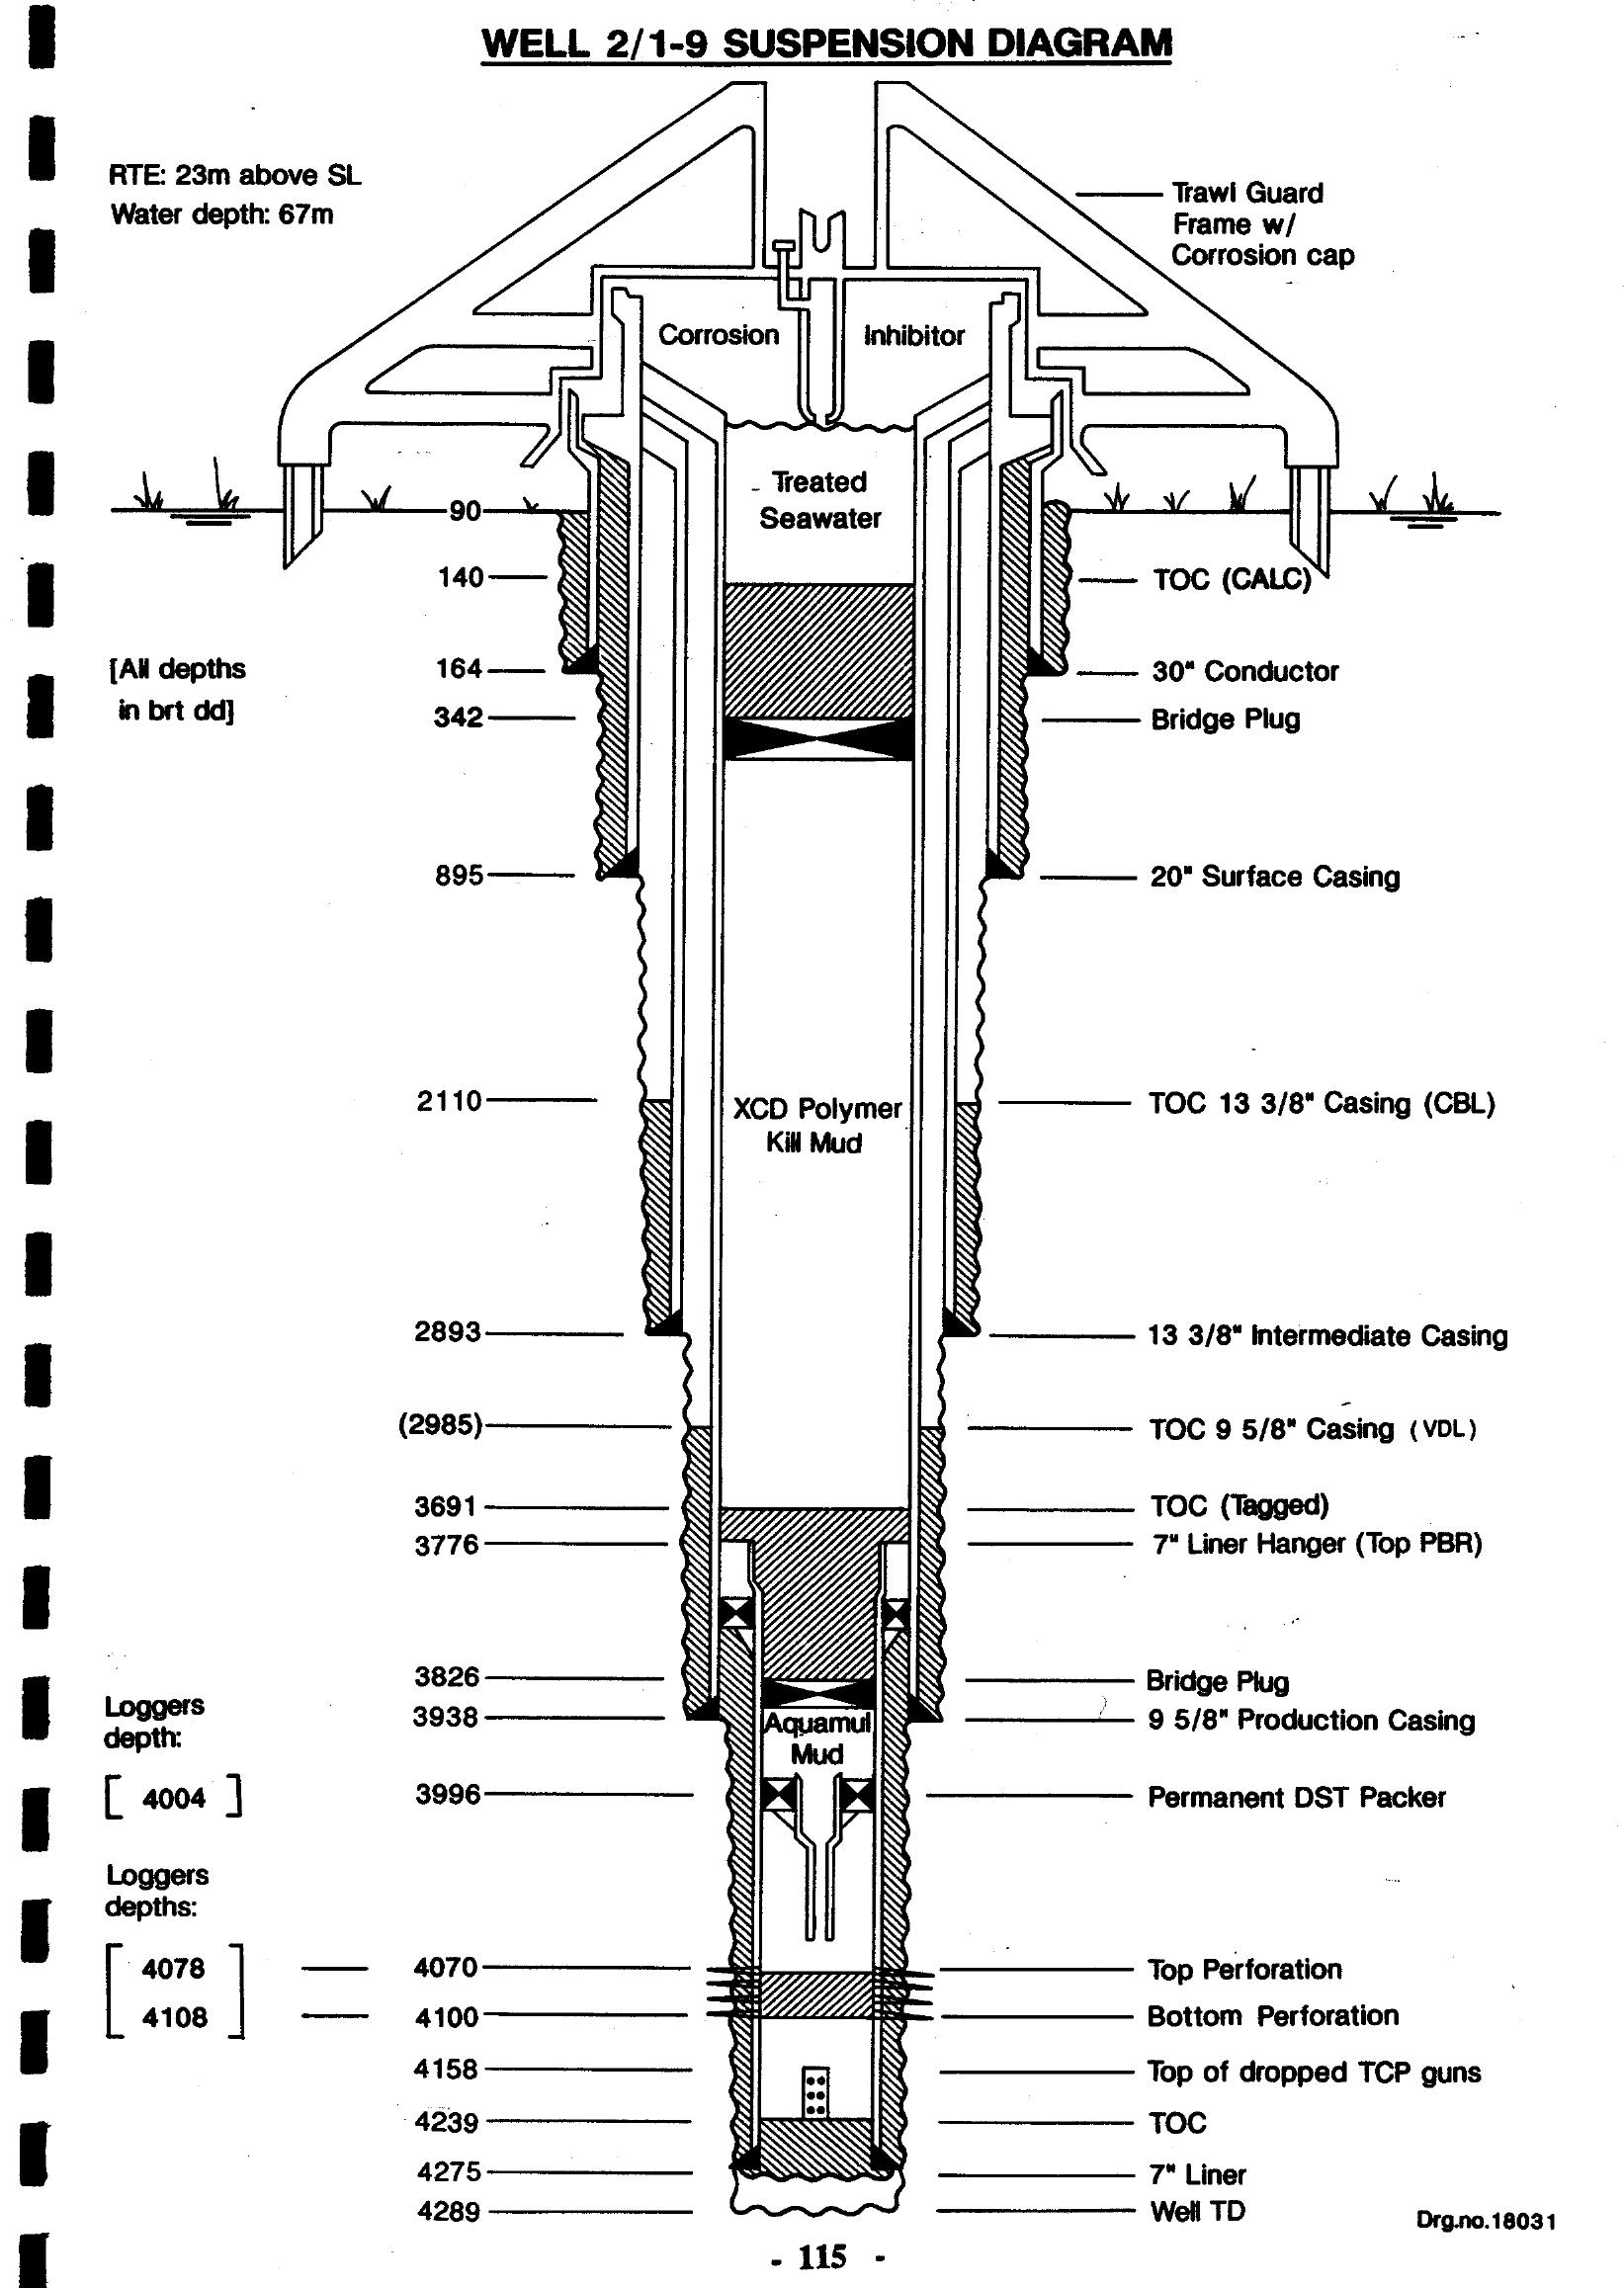graph: (74, 2, 1624, 2258)
